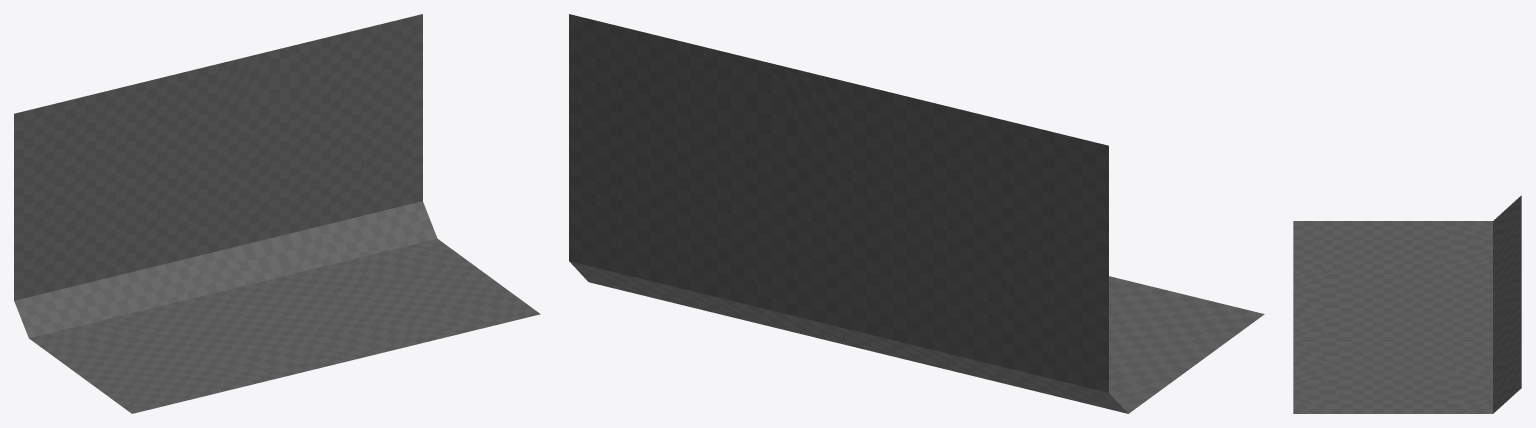
3 renders of one model, left to right at view 1: azimuth 30°, elevation 25°; view 2: azimuth 150°, elevation 25°; view 3: azimuth 270°, elevation 25°, orthographic. The views are drawn at different scales.
Parts seen in each view (by area): view 1: 0; view 2: 0; view 3: 0.
Part boxes in pixels (x1,y1,x2,y2): 0: (14,14,540,413); 0: (569,14,1264,413); 0: (1293,195,1521,413).
Size of the model in its own units: 4 by 2 by 2.
Materials: 1 (1 with a texture image).
